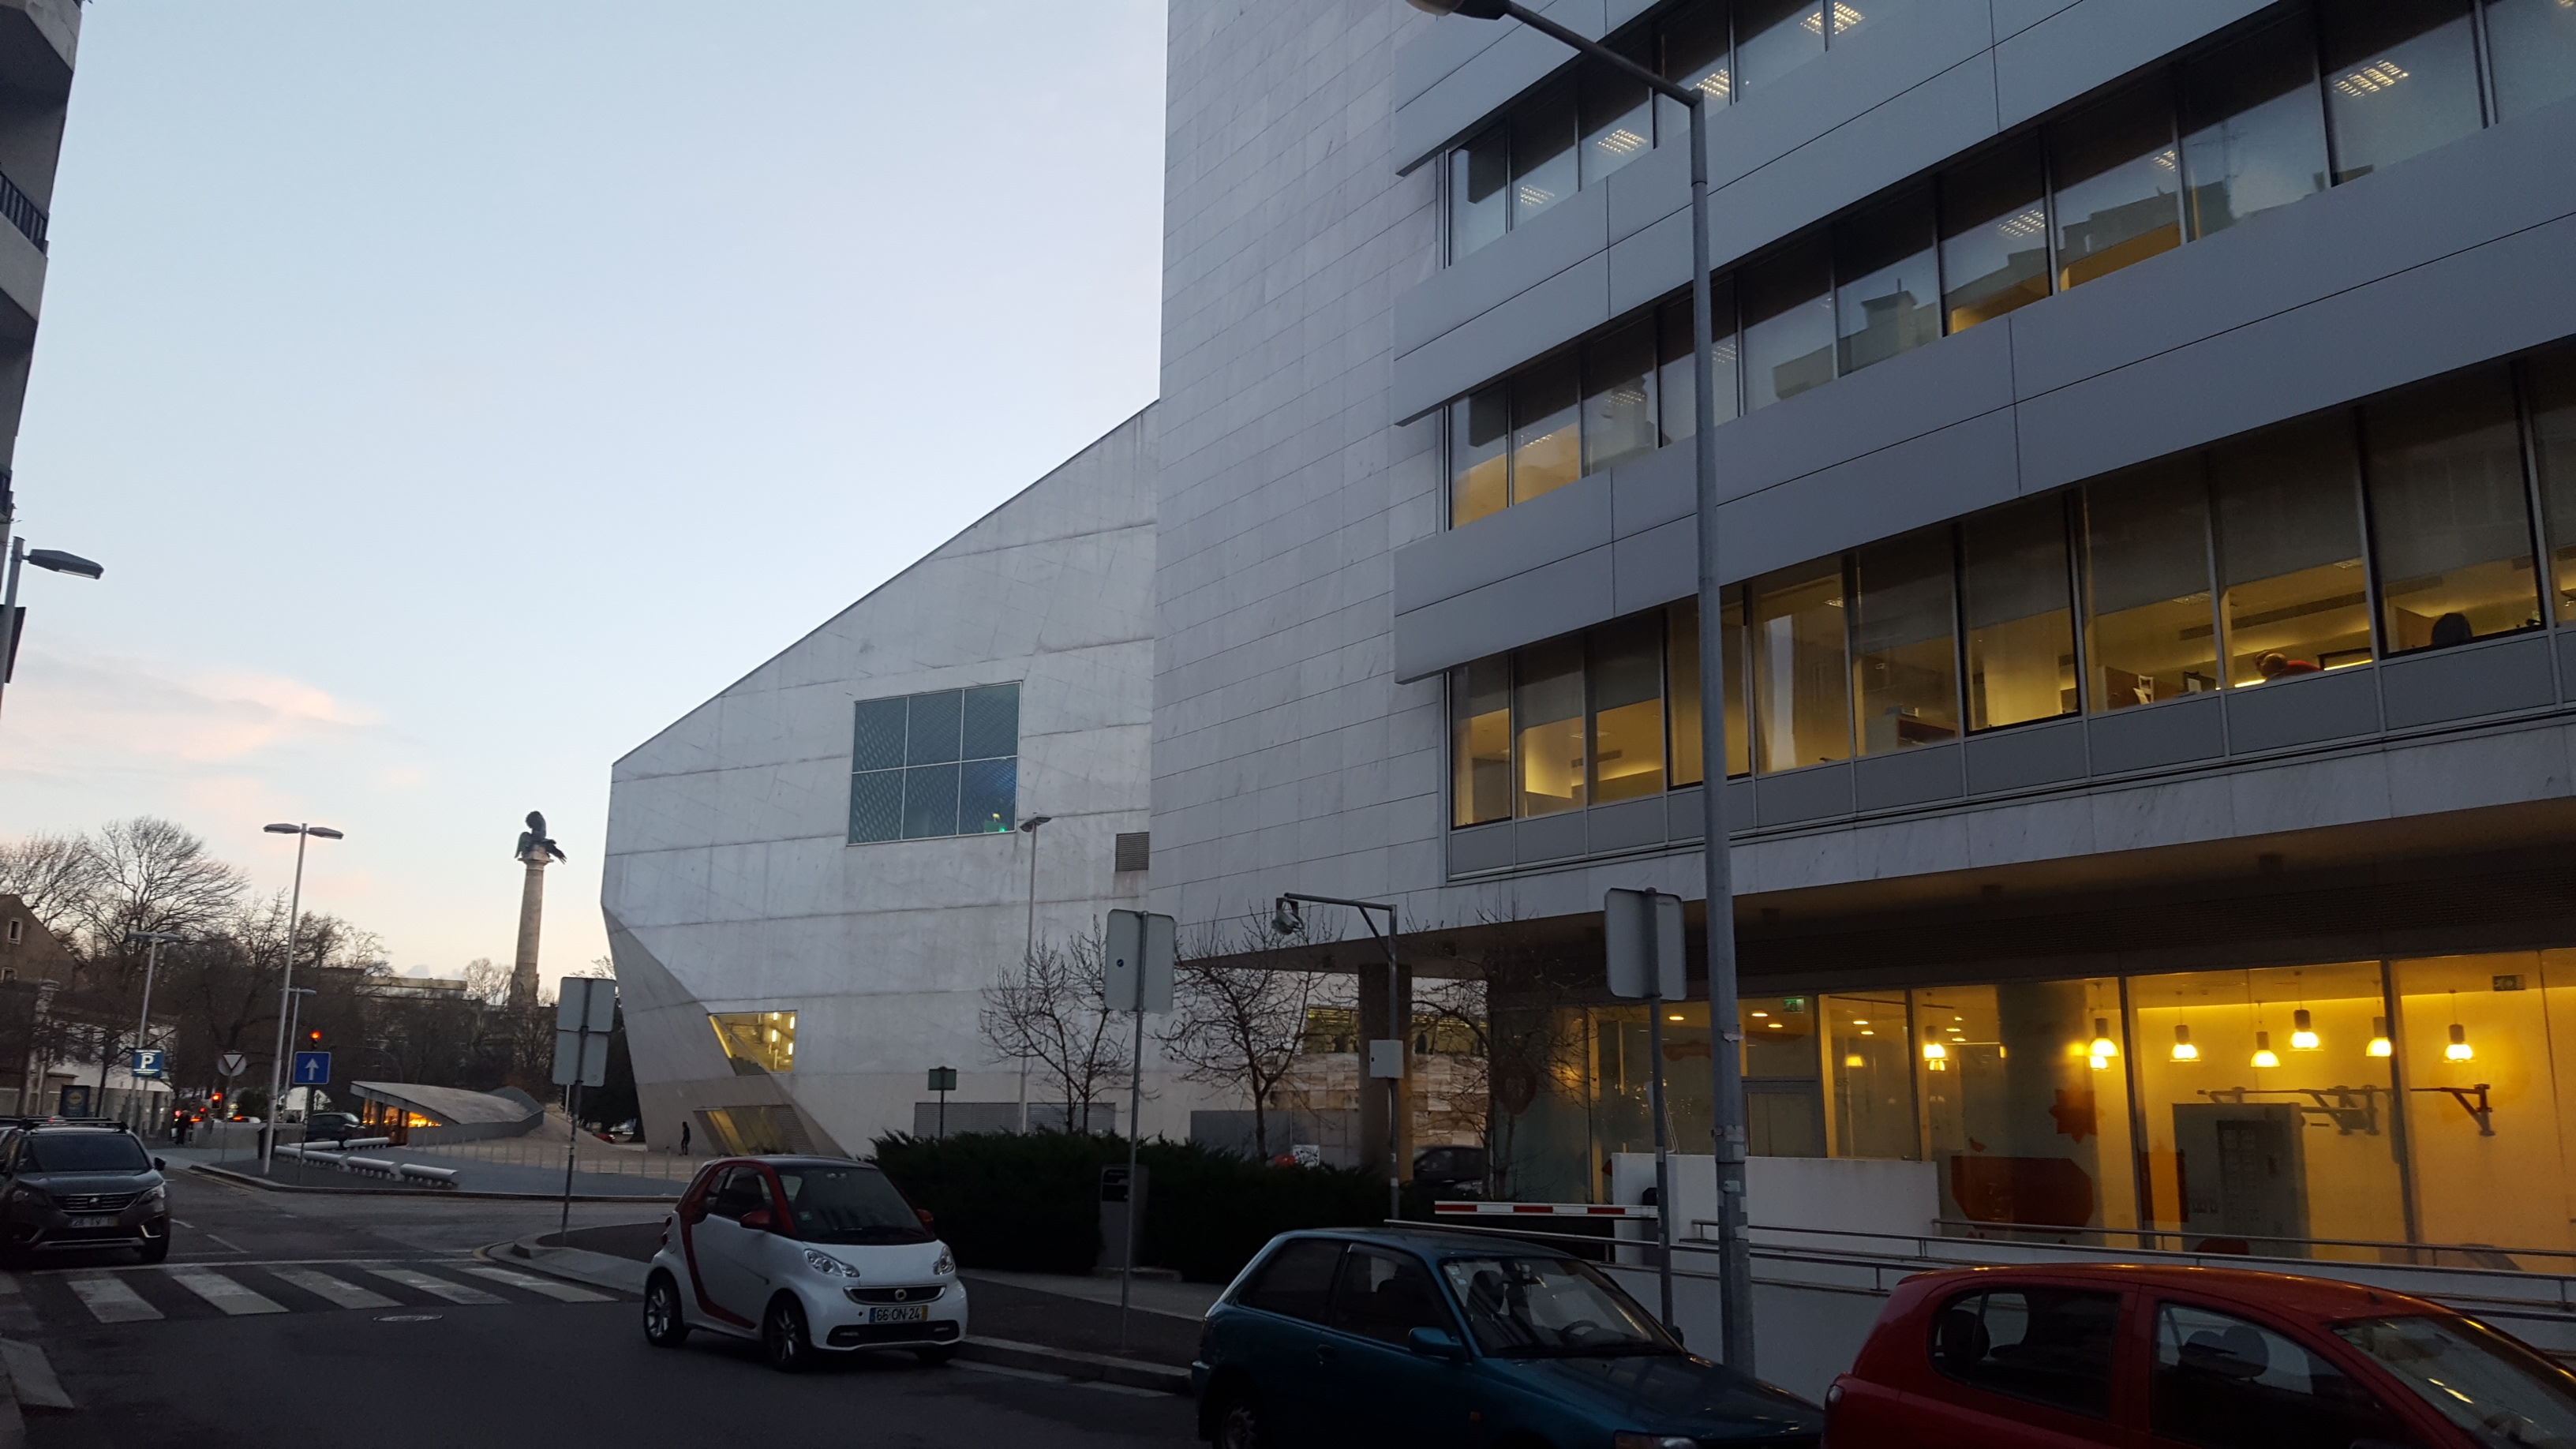musica: (561, 398, 603, 754)
